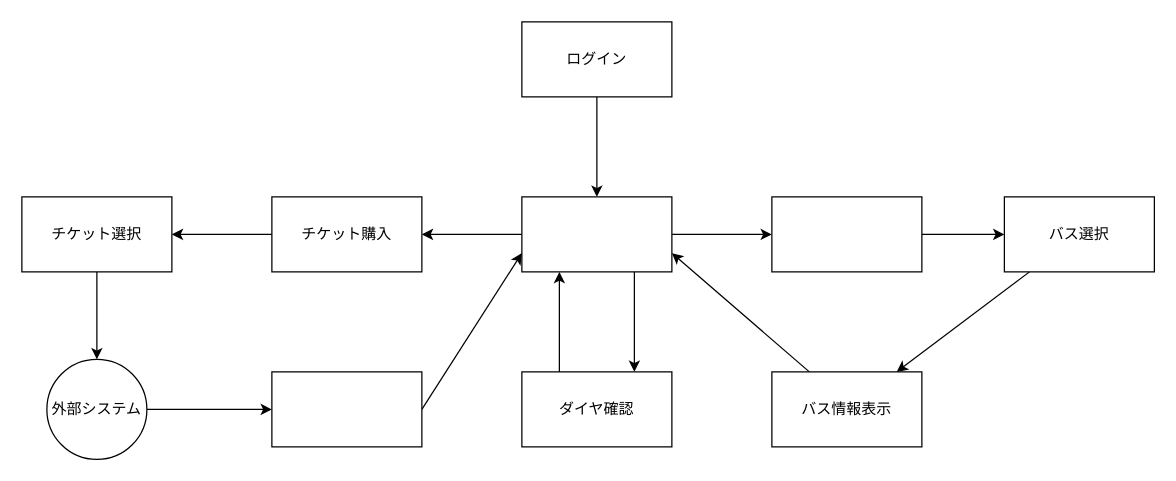
Image size: 1176x481. Some labels were removed from this diagram. Here are the shapes that lost their labels. From the top down, the centre of each, then its label:
At [596,234]: "チケット (トップ画面)".
At [846,234]: "バス情報確認".
At [346,409]: "購入完了".
